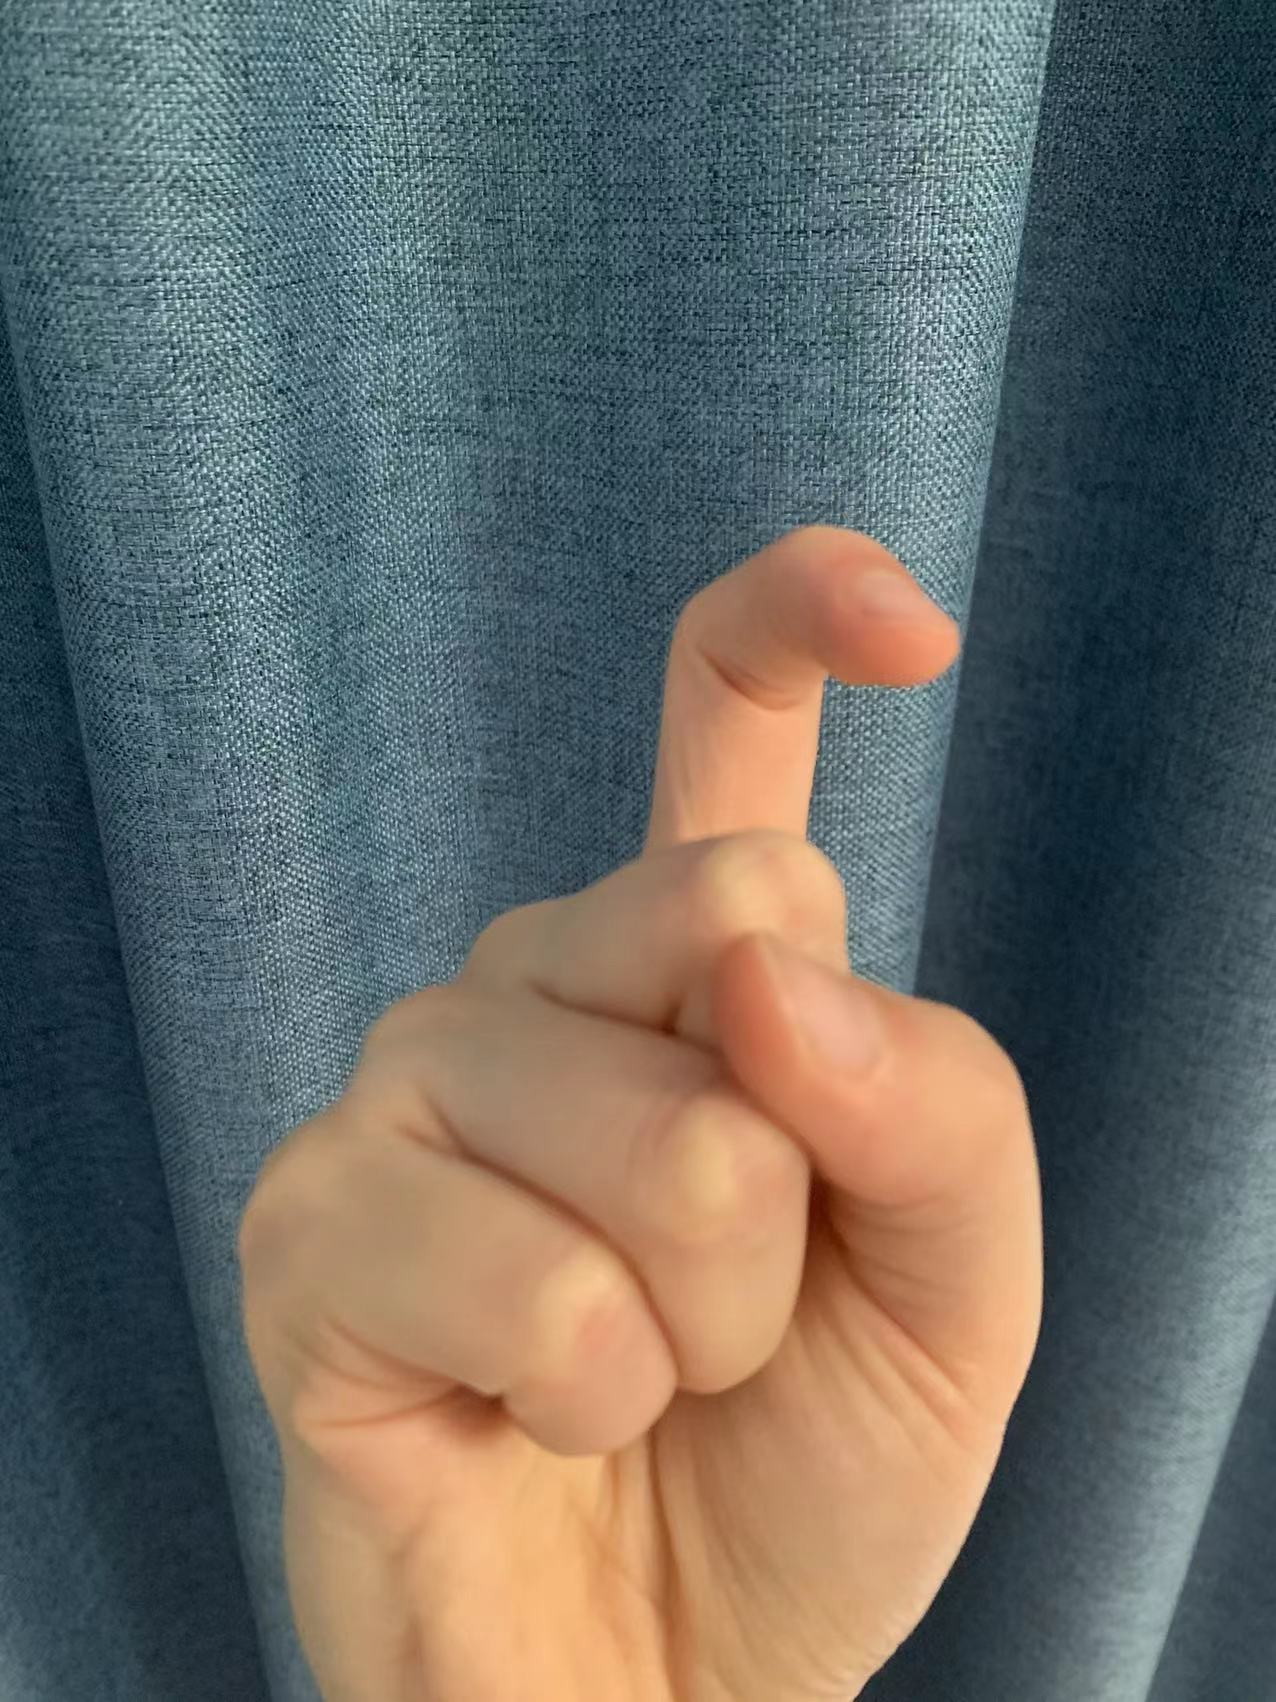anticlockwise: (213, 525, 1043, 1667)
